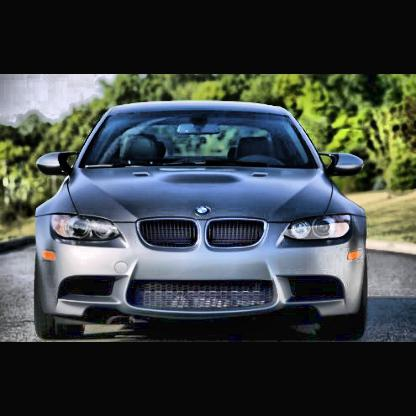BMW M3 Coupe 2012: (32, 100, 371, 341)
